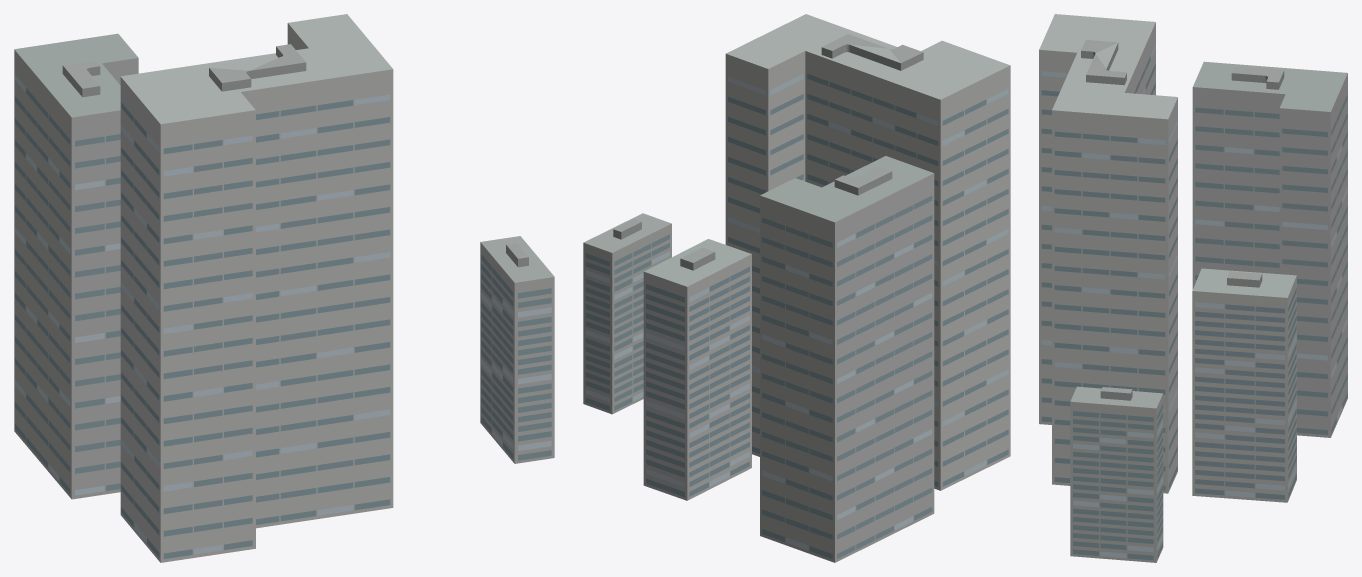
Rendered from apt-a15807603.glb.
The picture shows the model from 3 angles, left to right: view 1: azimuth 30°, elevation 25°; view 2: azimuth 150°, elevation 25°; view 3: azimuth 270°, elevation 25°; orthographic projection. The views are drawn at different scales.
Visible parts, largest first — view 1: apt-a15807603; view 2: apt-a15807603; view 3: apt-a15807603.
Part boxes in pixels (x1,y1,x2,y2): apt-a15807603: (14,14,554,562); apt-a15807603: (583,14,1010,562); apt-a15807603: (1039,14,1347,562).
Bounding box in the file's own units: 123 × 125 × 91.66.
